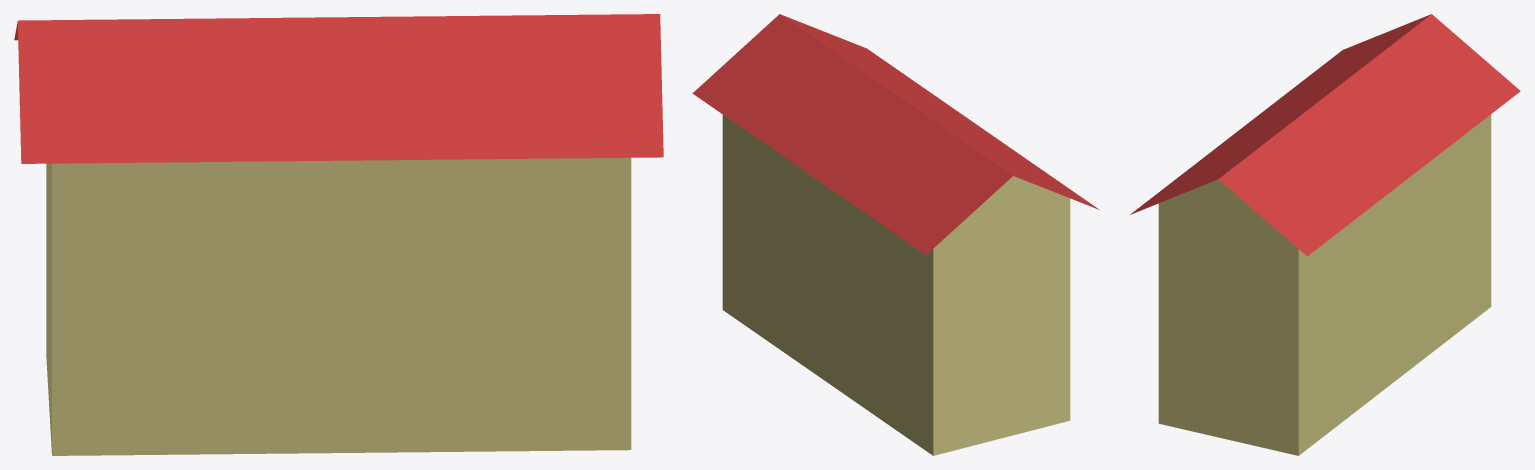
3 views of the same model, side by side, from view 1: azimuth 30°, elevation 25°; view 2: azimuth 150°, elevation 25°; view 3: azimuth 270°, elevation 25° (orthographic). The views are drawn at different scales.
Visible parts, largest first — view 1: group_5, group_3, group_4; view 2: group_5, group_3, group_4; view 3: group_5, group_3, group_4.
Part boxes in pixels (x1=…): group_5: x1=46, y1=157, x2=631, y2=455; group_3: x1=14, y1=14, x2=663, y2=163; group_4: x1=18, y1=14, x2=659, y2=163; group_5: x1=722, y1=115, x2=1070, y2=455; group_3: x1=723, y1=14, x2=1097, y2=248; group_4: x1=692, y1=14, x2=1098, y2=254; group_5: x1=1158, y1=114, x2=1491, y2=455; group_3: x1=1130, y1=14, x2=1490, y2=231; group_4: x1=1201, y1=14, x2=1520, y2=256.
Size of the model in its own units: 22.36 by 17.93 by 13.56.
